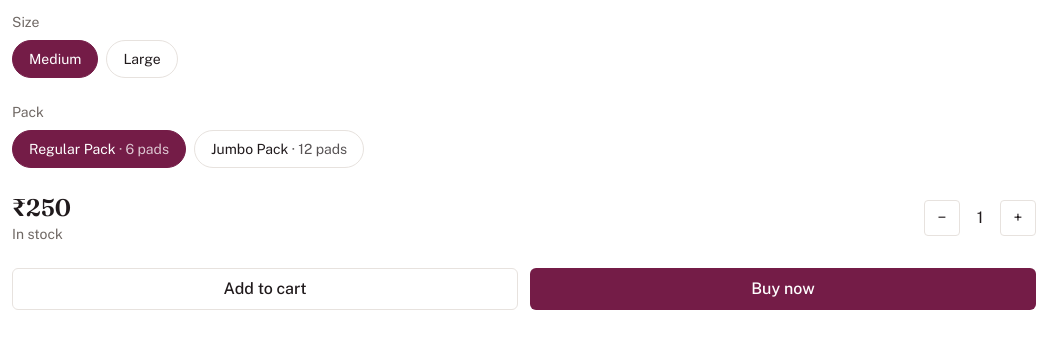
VariantSelector › Add to cart adds the item and opens the cart drawer, without leaving the page
Click the button "Add to cart" at coordinates (265, 289), box [12,268,518,310]
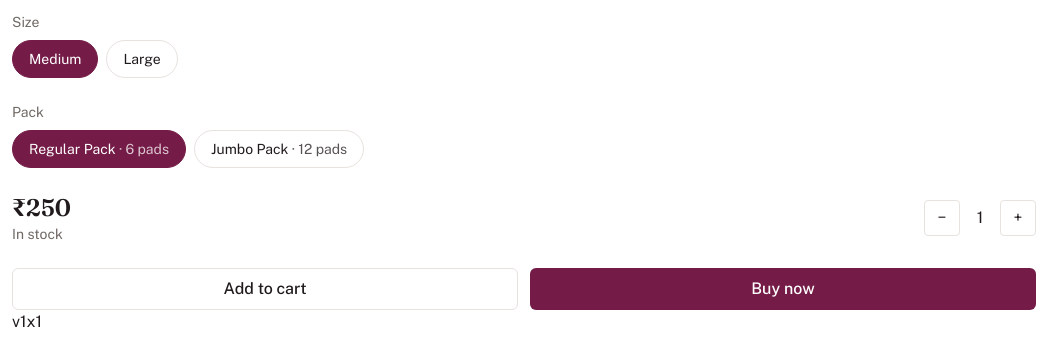
Expected: the text with test id "cart" reads "v1x1", [12,312,42,331]
